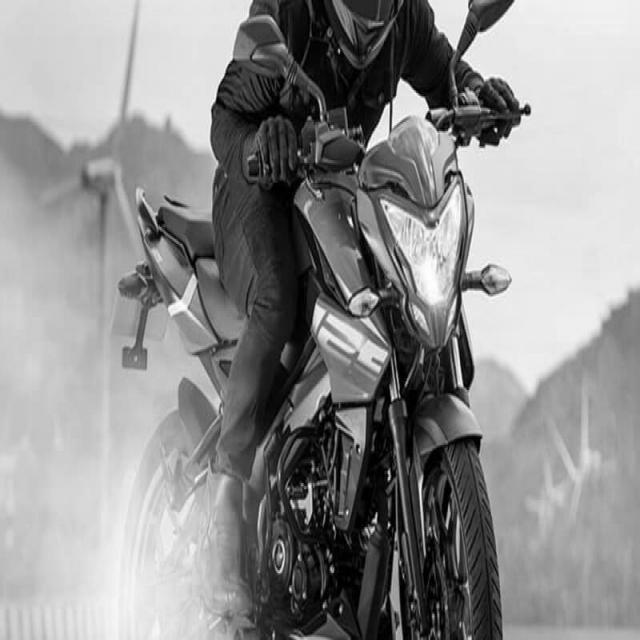Motorbike: (110, 0, 533, 640)
